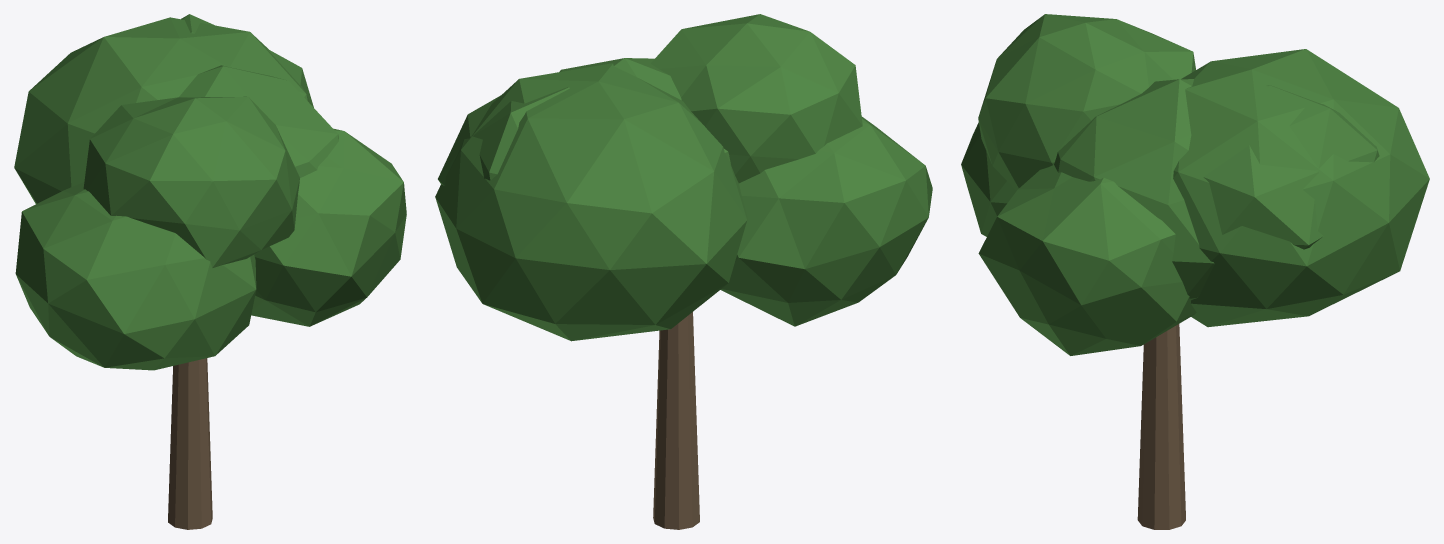
Rendered from tree.glb.
3 views of the same model, side by side, from view 1: azimuth 30°, elevation 25°; view 2: azimuth 150°, elevation 25°; view 3: azimuth 270°, elevation 25° (orthographic). The views are drawn at different scales.
Visible parts, largest first — view 1: Tree; view 2: Tree; view 3: Tree.
Boxes of the visible parts, bbox=[...] form: Tree: bbox=[14, 14, 406, 529]; Tree: bbox=[435, 14, 932, 529]; Tree: bbox=[961, 14, 1429, 529].
Bounding box in the file's own units: 5.21 × 6.14 × 5.42.
